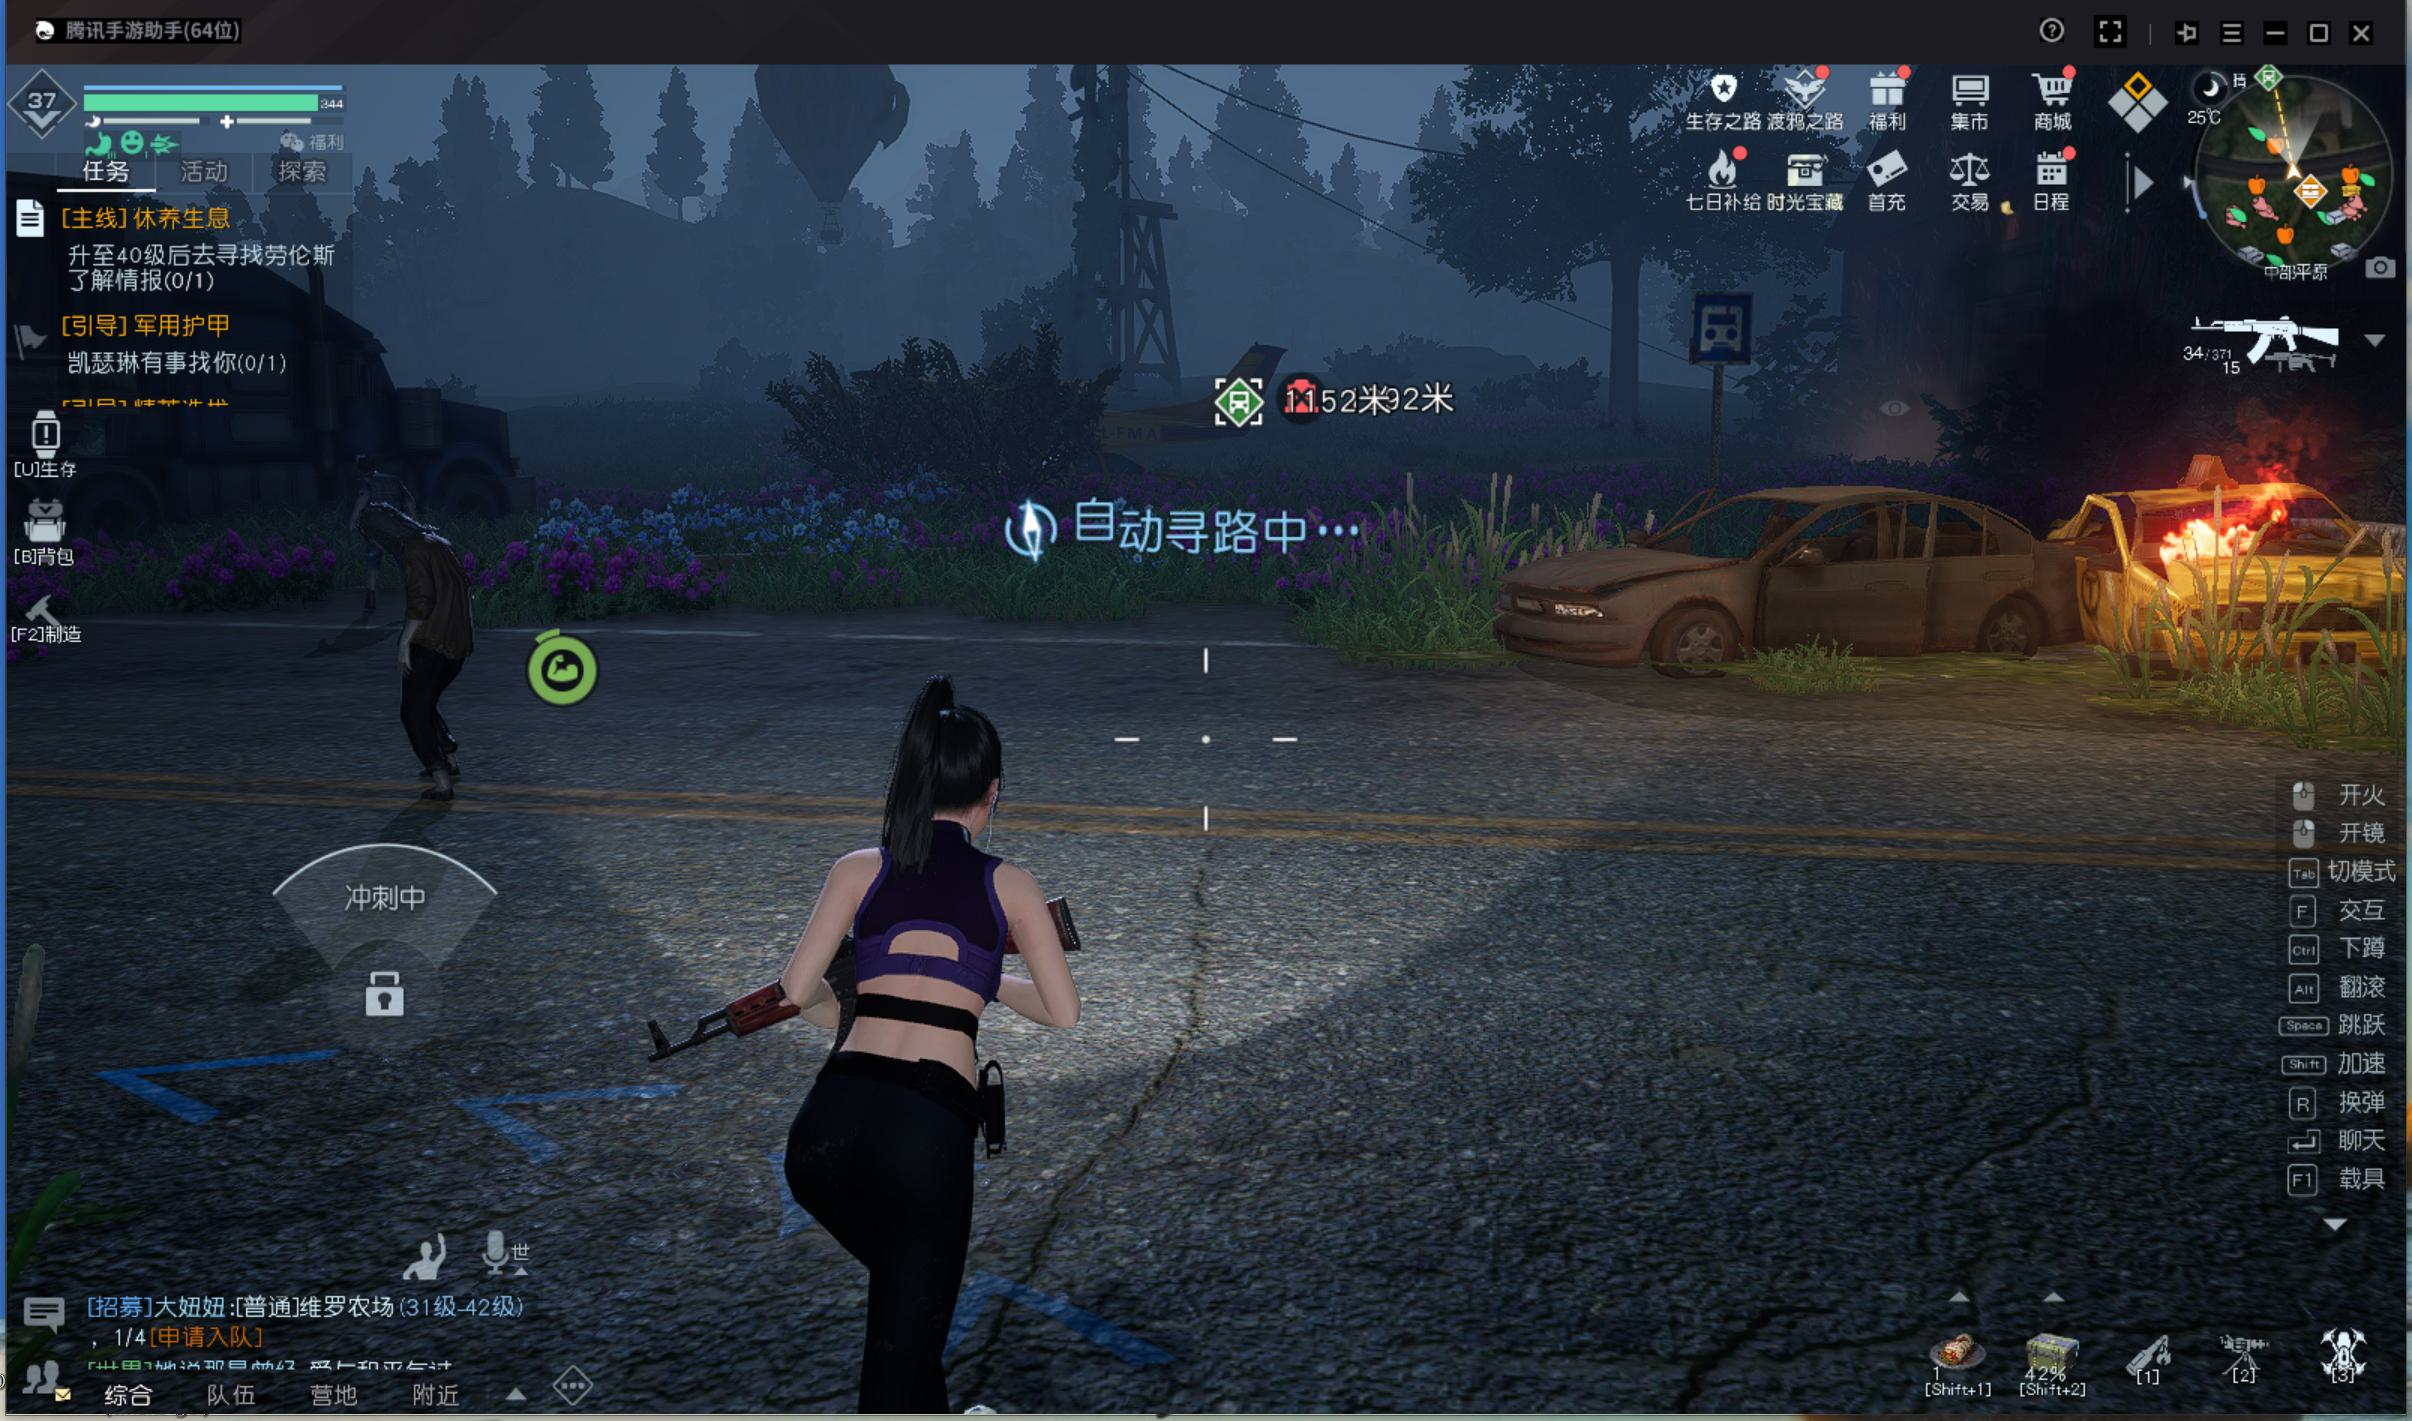tree: (1602, 271, 1659, 436)
